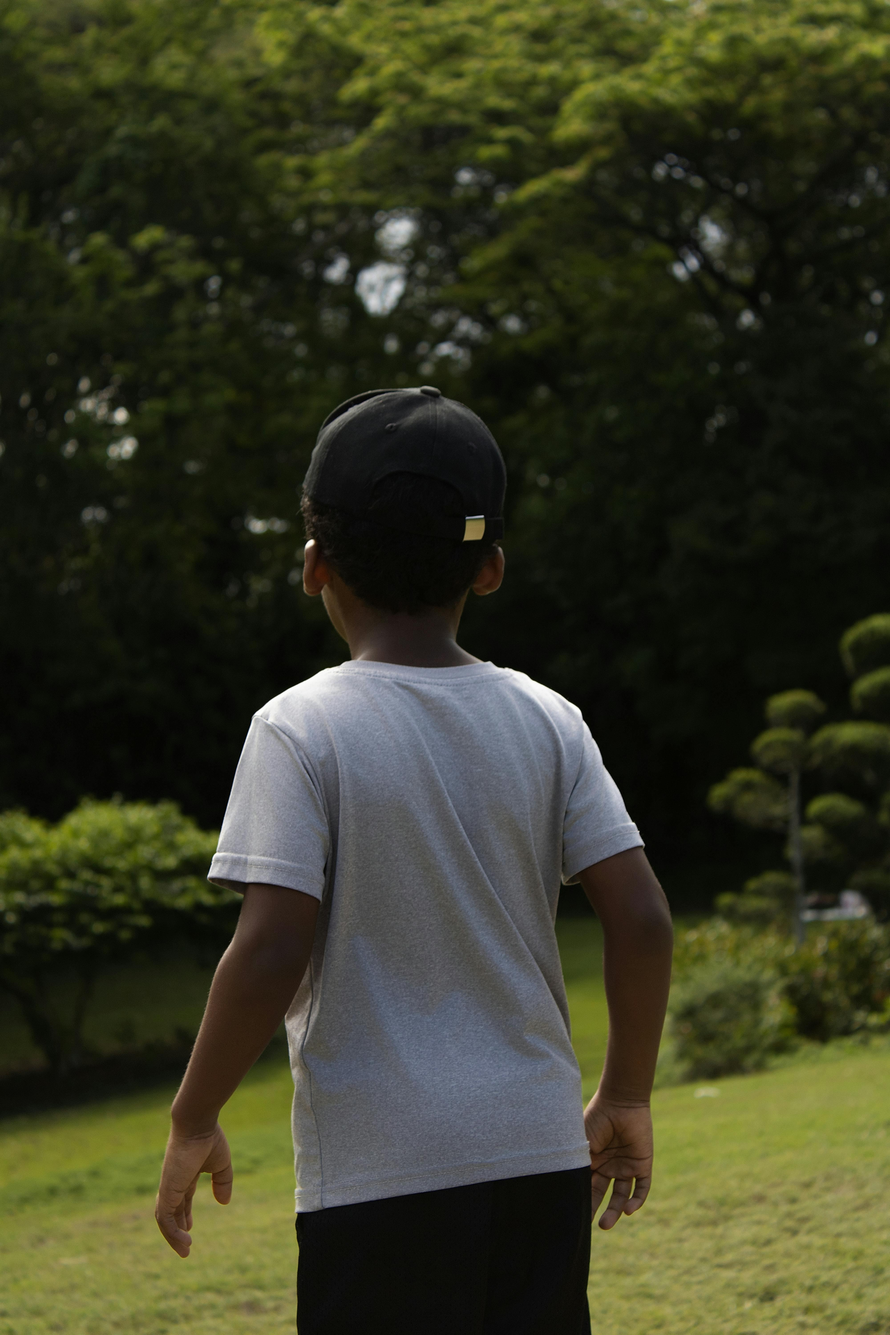Human: (181, 372, 632, 1335)
